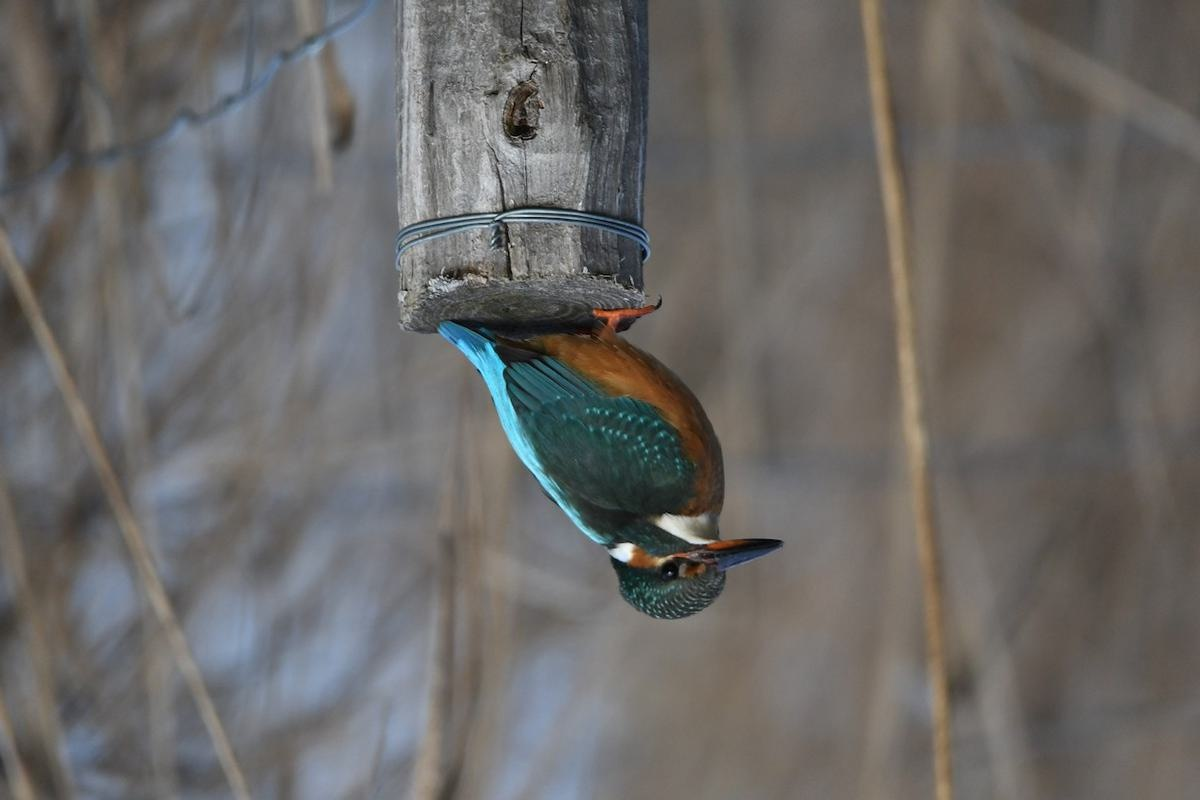kingfisher: (436, 285, 816, 634)
